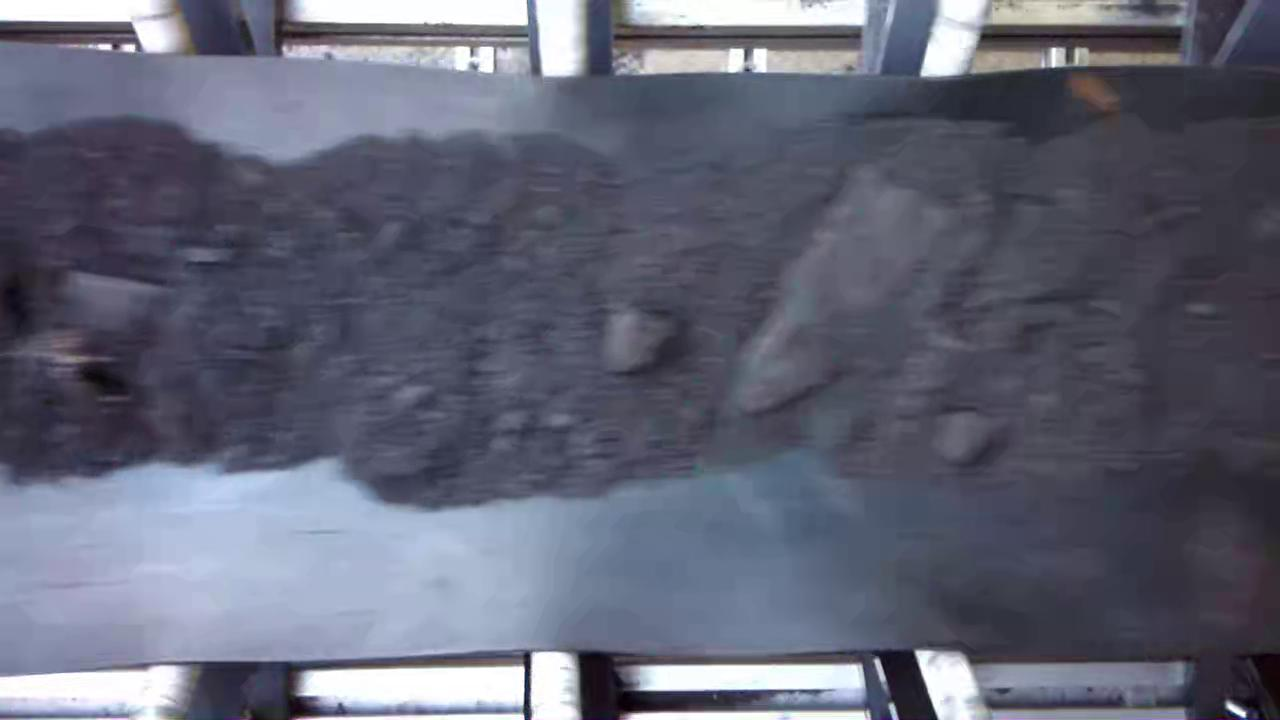conveyor: (1, 82, 1280, 643)
